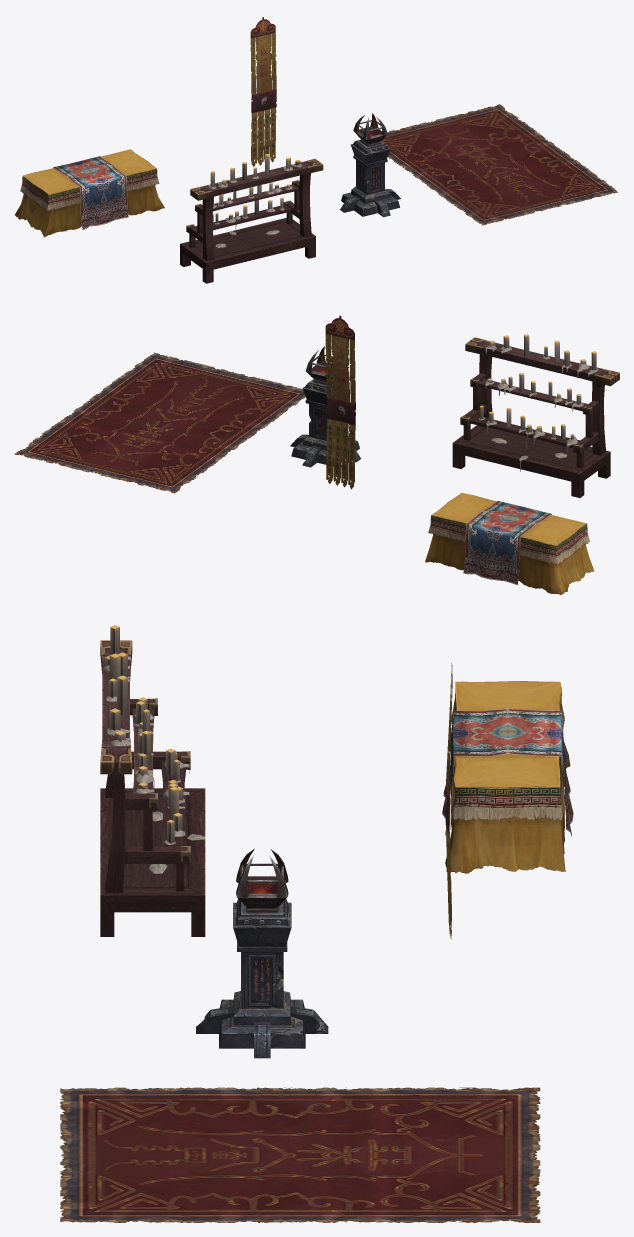
Rendered from 2_BTT_DiBiaoXiaoZaWu_03.FBX.
The picture shows the model from 3 angles, top to bottom: view 1: azimuth 30°, elevation 25°; view 2: azimuth 150°, elevation 25°; view 3: azimuth 270°, elevation 25°; orthographic projection. The views are drawn at different scales.
Visible parts, largest first — view 1: 2_BTT_FangXingHongDiTan_01, 2_BTT_LaZhuGongTai_01, 2_BTT_GongZhuo_01, 2_BTT_DaGuaLian_01, 2_BTT_TieZhaoHuoJu_01; view 2: 2_BTT_FangXingHongDiTan_01, 2_BTT_LaZhuGongTai_01, 2_BTT_GongZhuo_01, 2_BTT_DaGuaLian_01, 2_BTT_TieZhaoHuoJu_01; view 3: 2_BTT_FangXingHongDiTan_01, 2_BTT_GongZhuo_01, 2_BTT_LaZhuGongTai_01, 2_BTT_TieZhaoHuoJu_01, 2_BTT_DaGuaLian_01.
Part boxes in pixels (<box>): 2_BTT_FangXingHongDiTan_01: <box>381,104,618,225</box>; 2_BTT_LaZhuGongTai_01: <box>180,153,323,283</box>; 2_BTT_GongZhuo_01: <box>15,149,164,237</box>; 2_BTT_DaGuaLian_01: <box>250,17,276,166</box>; 2_BTT_TieZhaoHuoJu_01: <box>340,113,400,217</box>; 2_BTT_FangXingHongDiTan_01: <box>14,352,305,493</box>; 2_BTT_LaZhuGongTai_01: <box>452,334,619,497</box>; 2_BTT_GongZhuo_01: <box>425,493,594,594</box>; 2_BTT_DaGuaLian_01: <box>325,315,355,489</box>; 2_BTT_TieZhaoHuoJu_01: <box>290,346,361,467</box>; 2_BTT_FangXingHongDiTan_01: <box>60,1087,540,1222</box>; 2_BTT_GongZhuo_01: <box>442,681,573,873</box>; 2_BTT_LaZhuGongTai_01: <box>100,625,205,936</box>; 2_BTT_TieZhaoHuoJu_01: <box>196,848,328,1058</box>; 2_BTT_DaGuaLian_01: <box>445,663,452,938</box>.
Size of the model in its own units: 1937 by 645 by 898.
Materials: 5 (5 with a texture image).
